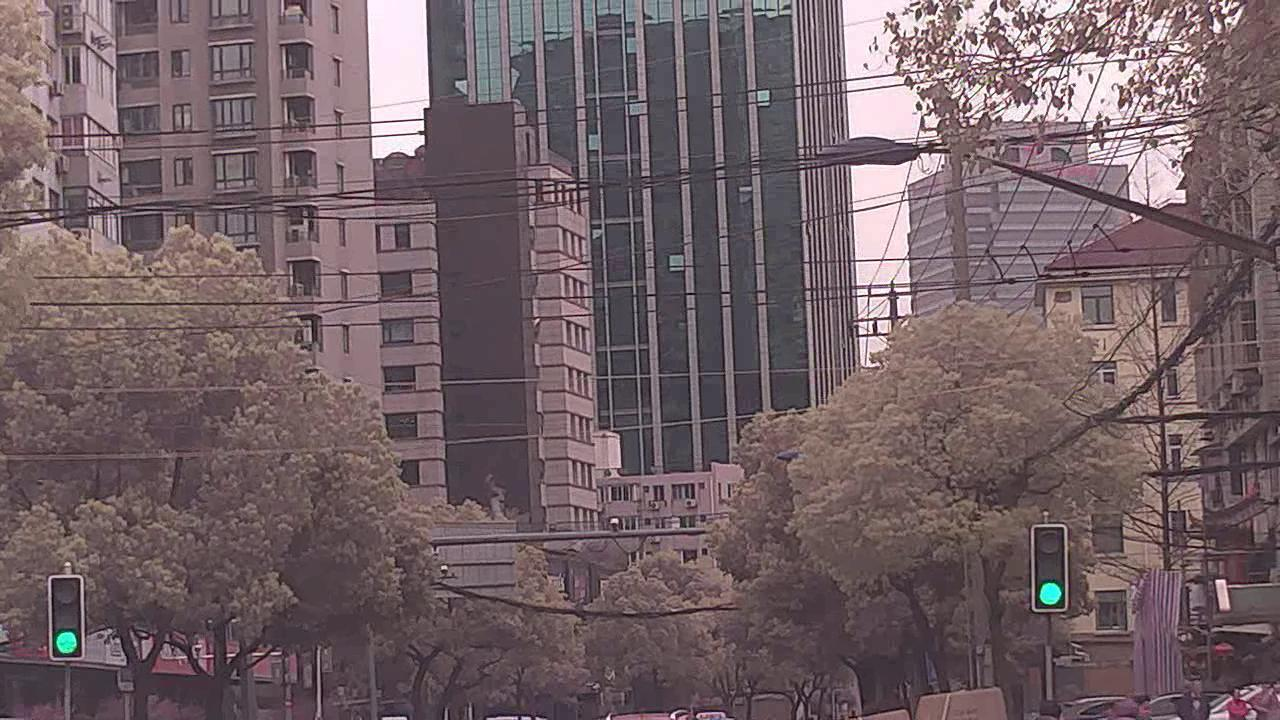traffic_light: (1031, 522, 1069, 611), (49, 578, 88, 661)
